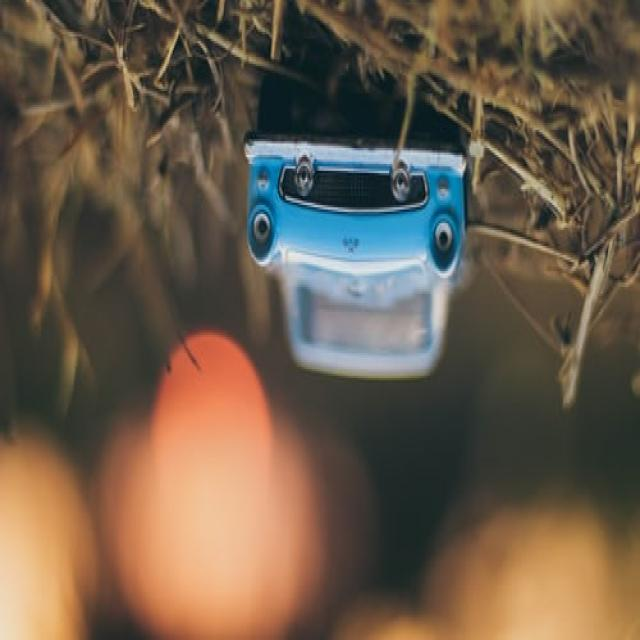Car: (243, 75, 471, 383)
